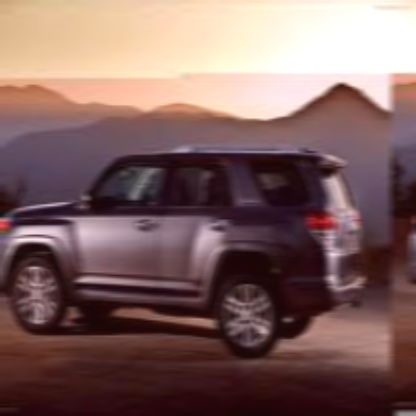Vehicle: (5, 139, 374, 367)
